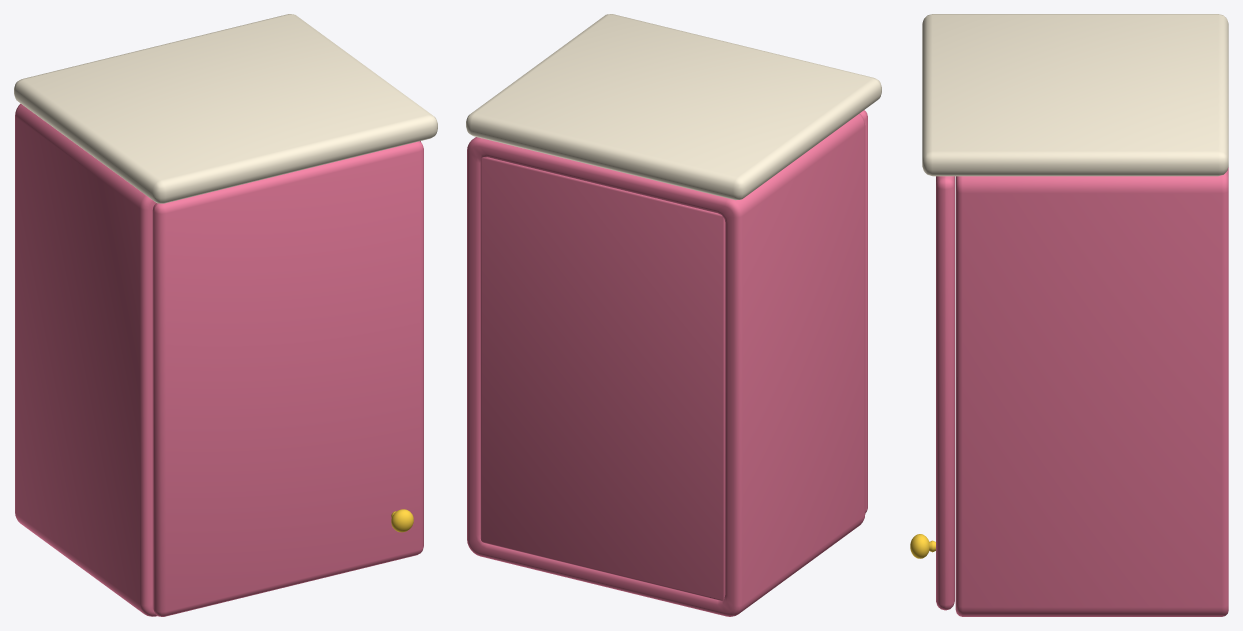
File: armario_parede_1porta_verde_rosa.glb
3 renders of one model, left to right at view 1: azimuth 30°, elevation 25°; view 2: azimuth 150°, elevation 25°; view 3: azimuth 270°, elevation 25°, orthographic. The views are drawn at different scales.
Visible parts, largest first — view 1: porta_1, armario_parede_1porta_verde_rosa; view 2: armario_parede_1porta_verde_rosa, porta_1; view 3: armario_parede_1porta_verde_rosa, porta_1.
Part boxes in pixels (<box>): porta_1: <box>152,141,423,616</box>; armario_parede_1porta_verde_rosa: <box>14,14,437,616</box>; armario_parede_1porta_verde_rosa: <box>466,14,881,616</box>; porta_1: <box>860,110,867,513</box>; armario_parede_1porta_verde_rosa: <box>922,14,1228,616</box>; porta_1: <box>910,176,954,610</box>.
Bounding box in the file's own units: 0.398 × 0.6 × 0.37.
Materials: 1 (1 with a texture image).
